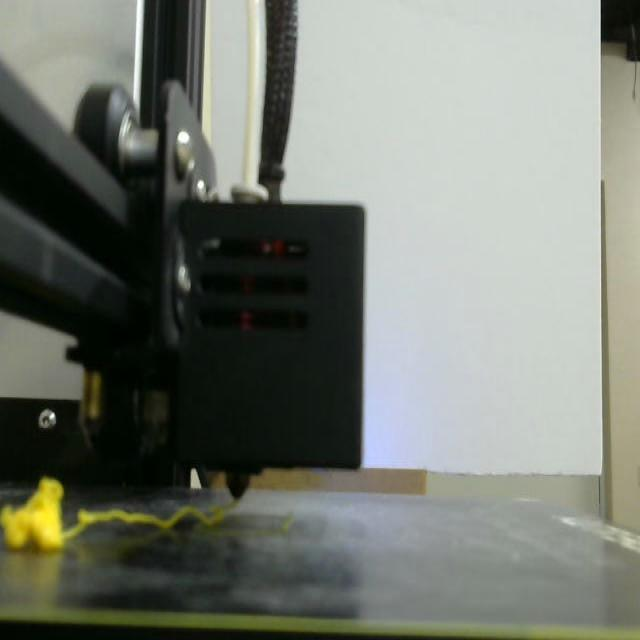spaghetti: (0, 477, 236, 551)
